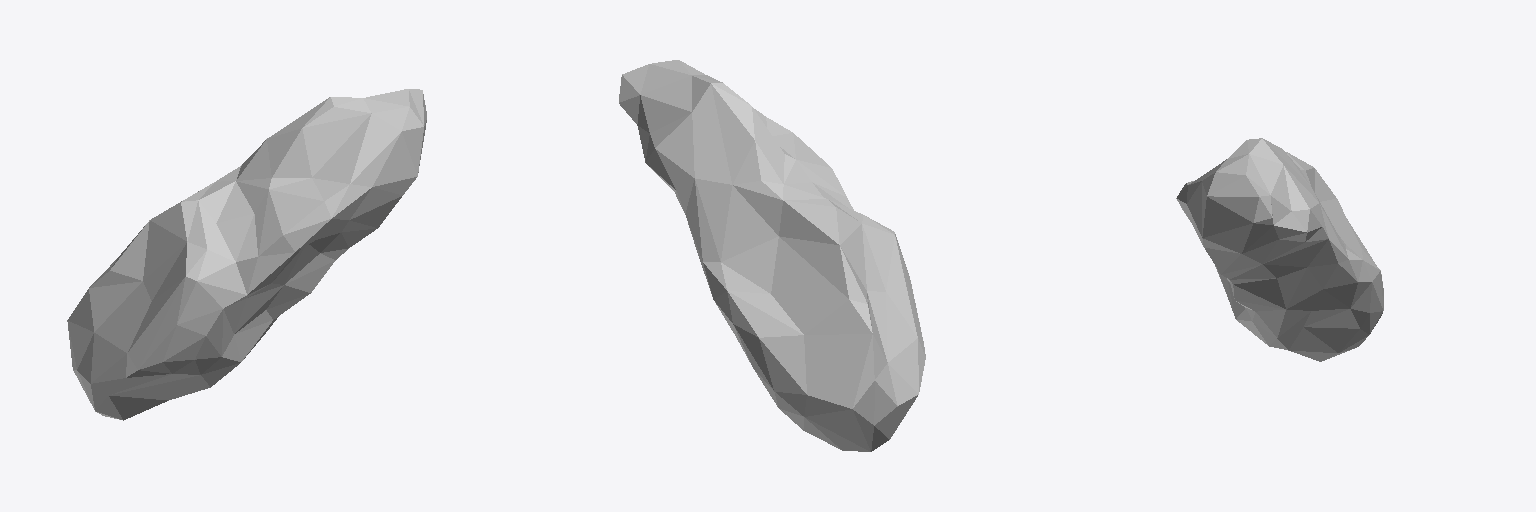
Rendered from AngledSpire.obj.
3 renders of one model, left to right at view 1: azimuth 30°, elevation 25°; view 2: azimuth 150°, elevation 25°; view 3: azimuth 270°, elevation 25°, orthographic.
Parts seen in each view (by area): view 1: lowpoly1; view 2: lowpoly1; view 3: lowpoly1.
Part boxes in pixels (x1,y1,x2,y2): lowpoly1: (67, 89, 426, 420); lowpoly1: (619, 60, 925, 451); lowpoly1: (1176, 138, 1383, 361).
Size of the model in its own units: 4.5 by 4.07 by 2.56.